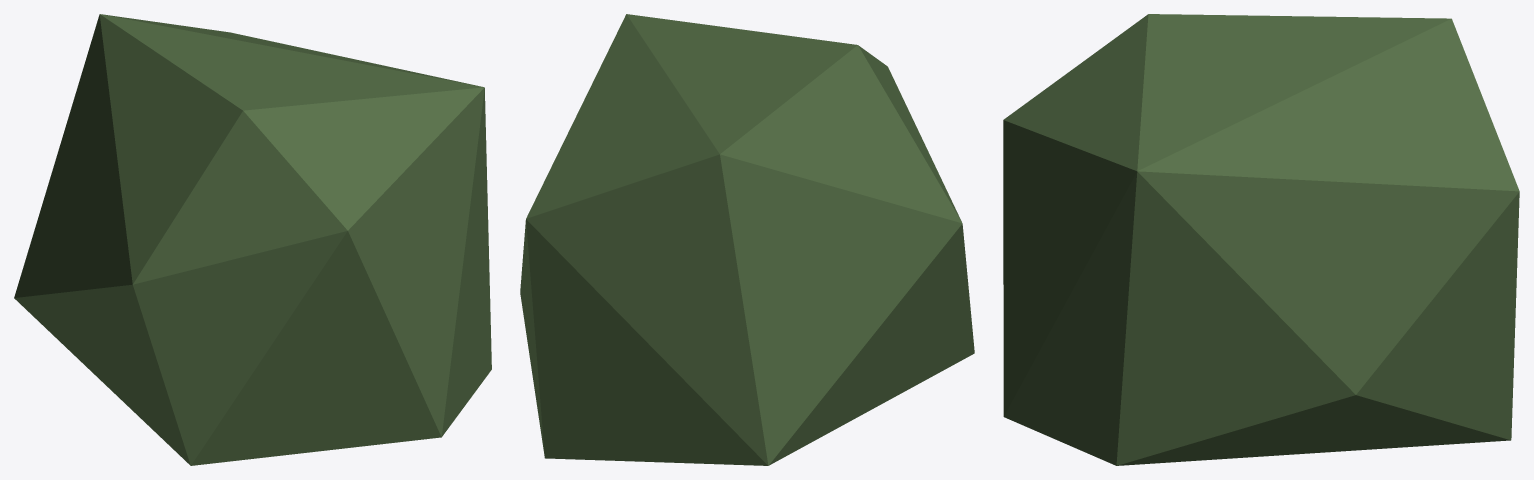
Rendered from Bush_1.lod4.glb.
3 views of the same model, side by side, from view 1: azimuth 30°, elevation 25°; view 2: azimuth 150°, elevation 25°; view 3: azimuth 270°, elevation 25° (orthographic). The views are drawn at different scales.
Parts seen in each view (by area): view 1: Bush_1; view 2: Bush_1; view 3: Bush_1.
Part boxes in pixels (box(x1,y1,x2,y2)): Bush_1: box(14, 14, 491, 465); Bush_1: box(520, 14, 974, 465); Bush_1: box(1003, 14, 1519, 465).
Bounding box in the file's own units: 1.29 × 1.15 × 1.54.
